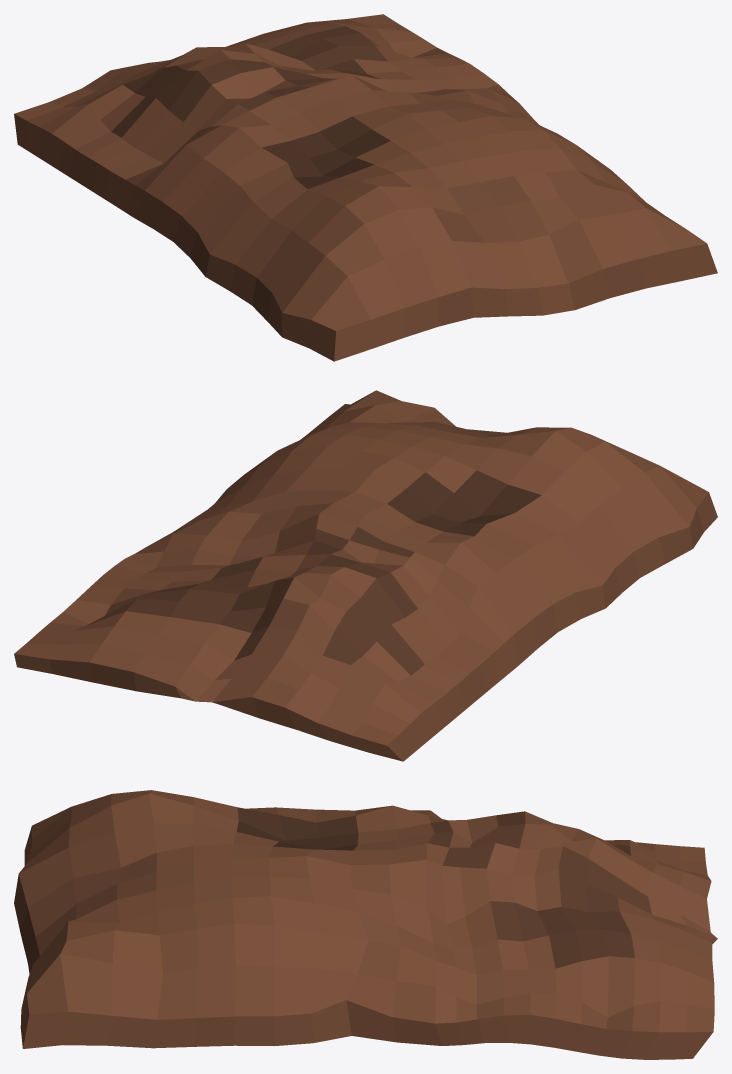
File: Dirt_patch.fbx
The picture shows the model from 3 angles, top to bottom: view 1: azimuth 30°, elevation 25°; view 2: azimuth 150°, elevation 25°; view 3: azimuth 270°, elevation 25°; orthographic projection. The views are drawn at different scales.
Visible parts, largest first — view 1: Dirt_patch; view 2: Dirt_patch; view 3: Dirt_patch.
Part boxes in pixels (x1,y1,x2,y2): Dirt_patch: (14, 14, 717, 361); Dirt_patch: (14, 390, 717, 761); Dirt_patch: (14, 790, 717, 1059).
Size of the model in its own units: 9.18 by 2.64 by 13.37.
